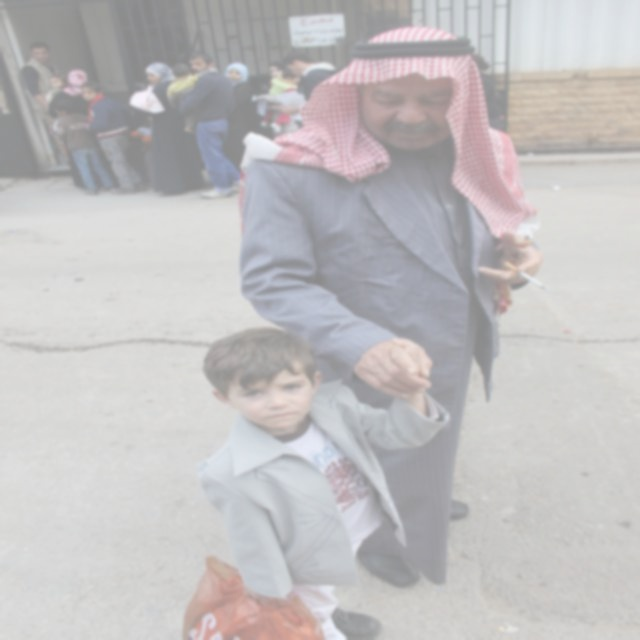pessoa: (230, 23, 562, 597), (180, 323, 458, 640), (128, 62, 210, 195), (178, 50, 243, 200), (46, 68, 115, 190), (78, 80, 149, 196), (19, 41, 76, 166), (52, 100, 121, 196), (276, 50, 338, 123), (165, 62, 221, 136), (222, 63, 258, 174), (264, 60, 306, 142), (260, 68, 302, 133), (131, 114, 153, 150), (44, 74, 70, 104)
